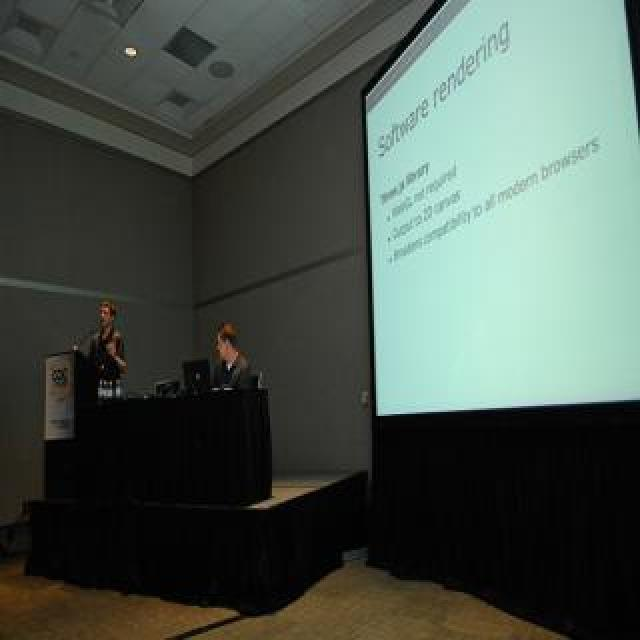laptop_computer: (171, 355, 233, 404)
